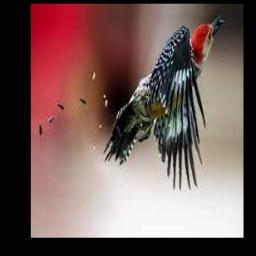Woodpecker: (104, 14, 225, 190)
